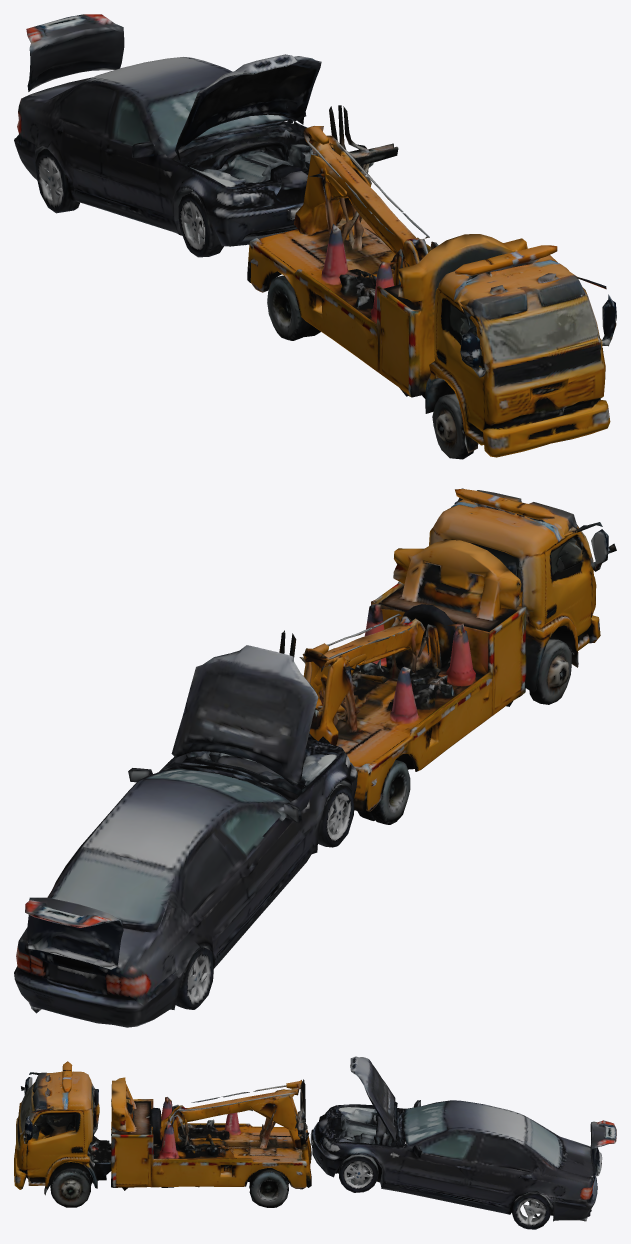
File: derek_plus_mobil.glb
The picture shows the model from 3 angles, top to bottom: view 1: azimuth 30°, elevation 25°; view 2: azimuth 150°, elevation 25°; view 3: azimuth 270°, elevation 25°; orthographic projection. The views are drawn at different scales.
Visible parts, largest first — view 1: tripo_node_c9e404f8; view 2: tripo_node_c9e404f8; view 3: tripo_node_c9e404f8.
Boxes of the visible parts, box(x1,y1,x2,y2) form: tripo_node_c9e404f8: box(14, 14, 616, 459); tripo_node_c9e404f8: box(14, 488, 616, 1027); tripo_node_c9e404f8: box(14, 1056, 616, 1229).
Bounding box in the file's own units: 40.69 × 54.29 × 203.
2 materials, 2 textured.
